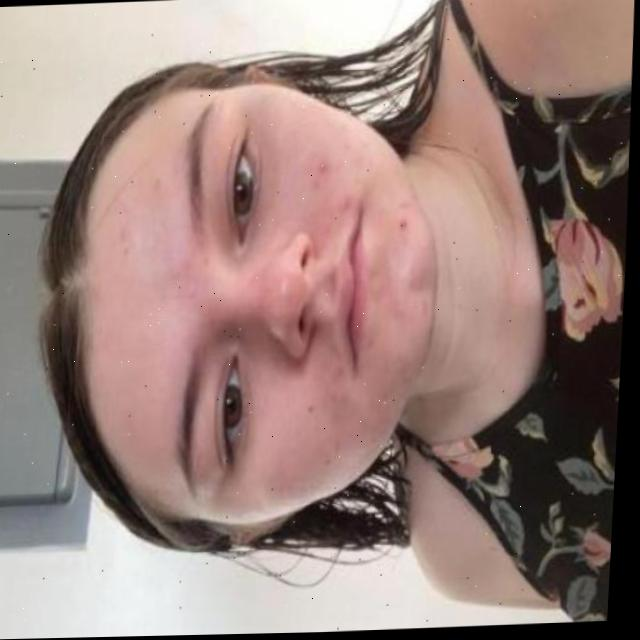Acne: (304, 143, 347, 184)
